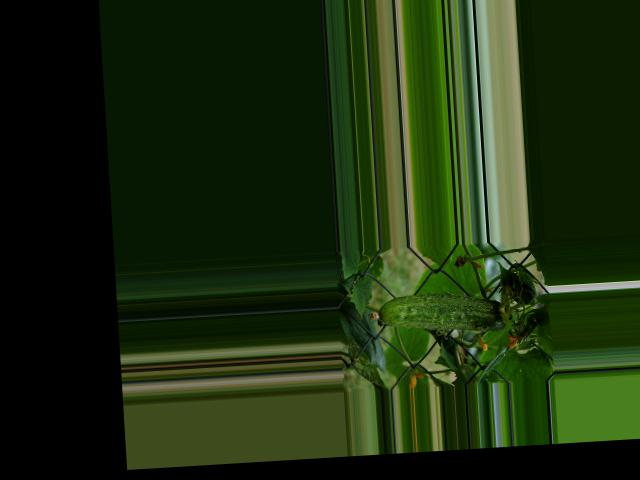cucumber: (369, 289, 512, 337)
